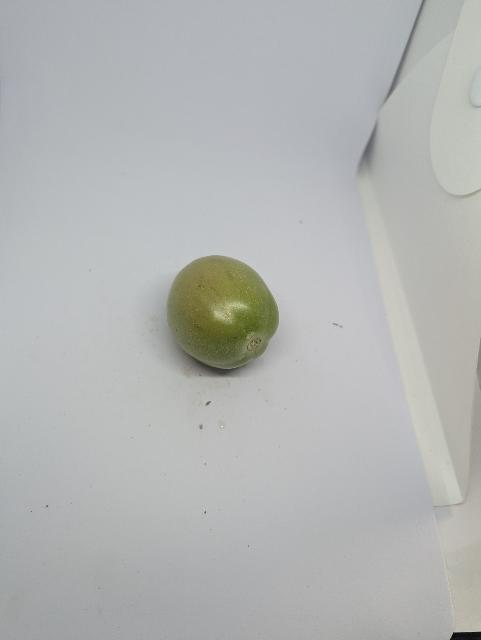green: (163, 253, 281, 371)
